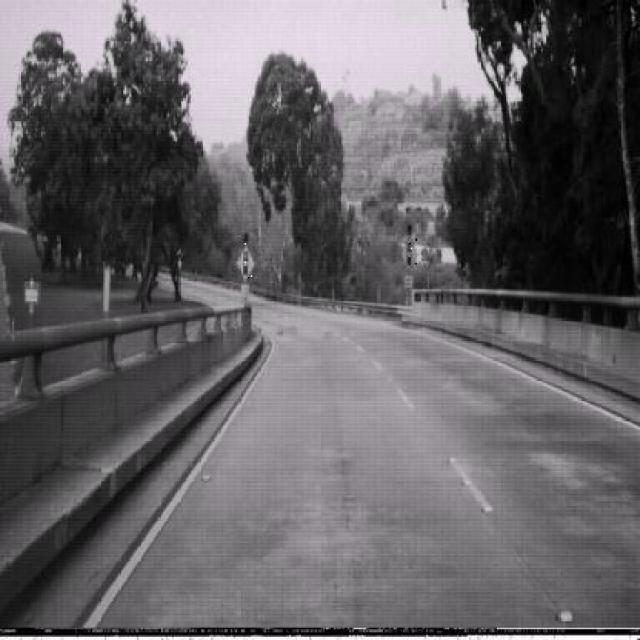signalAhead: (235, 243, 255, 280), (400, 236, 418, 270)
